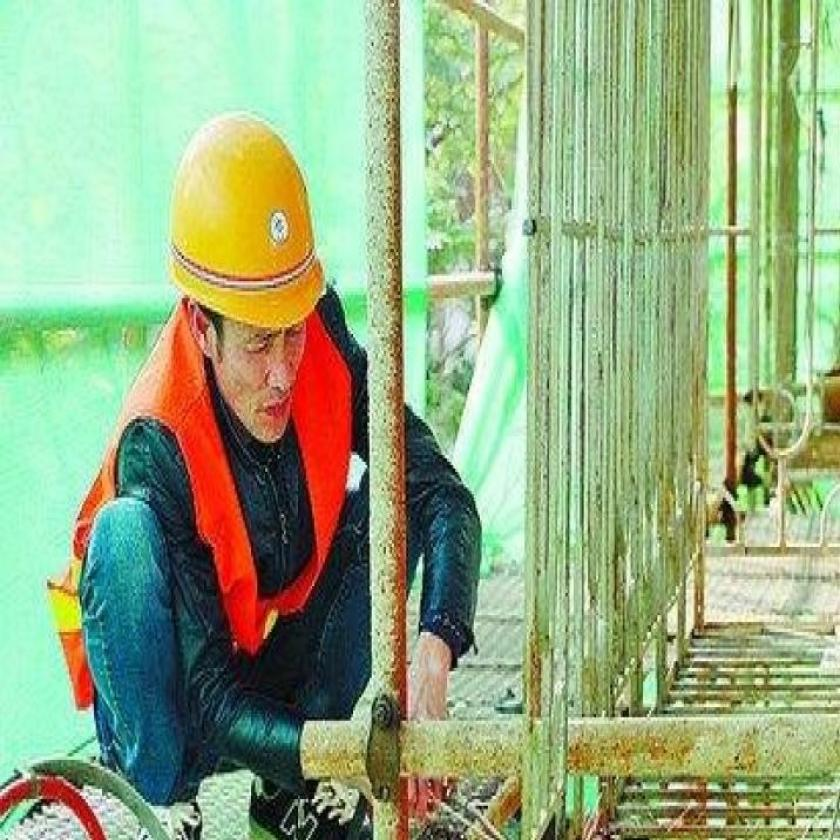Con_casco: (169, 100, 330, 466)
